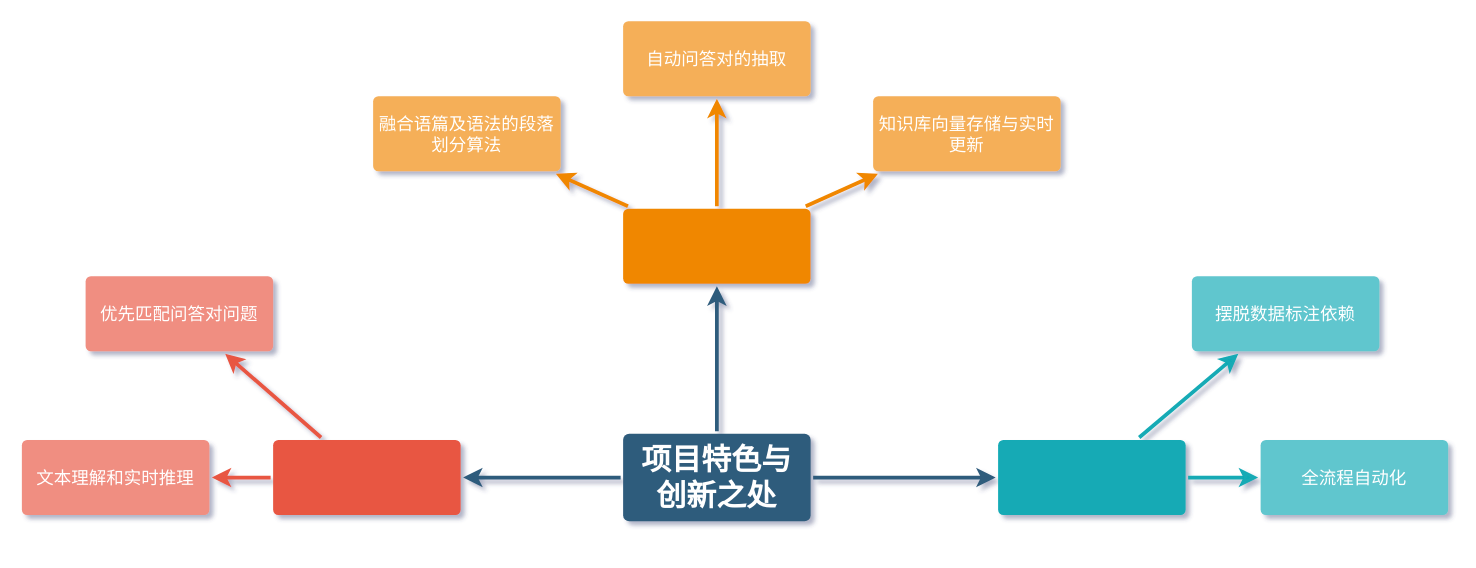
Some shapes in this 1476 by 568 pixel diagram are drawn without their labels. The box of each missing label's shape, as (x1, y1, x2, y2) in pixels:
基于语义的查询匹配和回答生成: (272, 439, 460, 514)
自动化信息抽取与知识构建: (622, 208, 810, 283)
自适应性领域迁移手段: (998, 439, 1185, 514)
